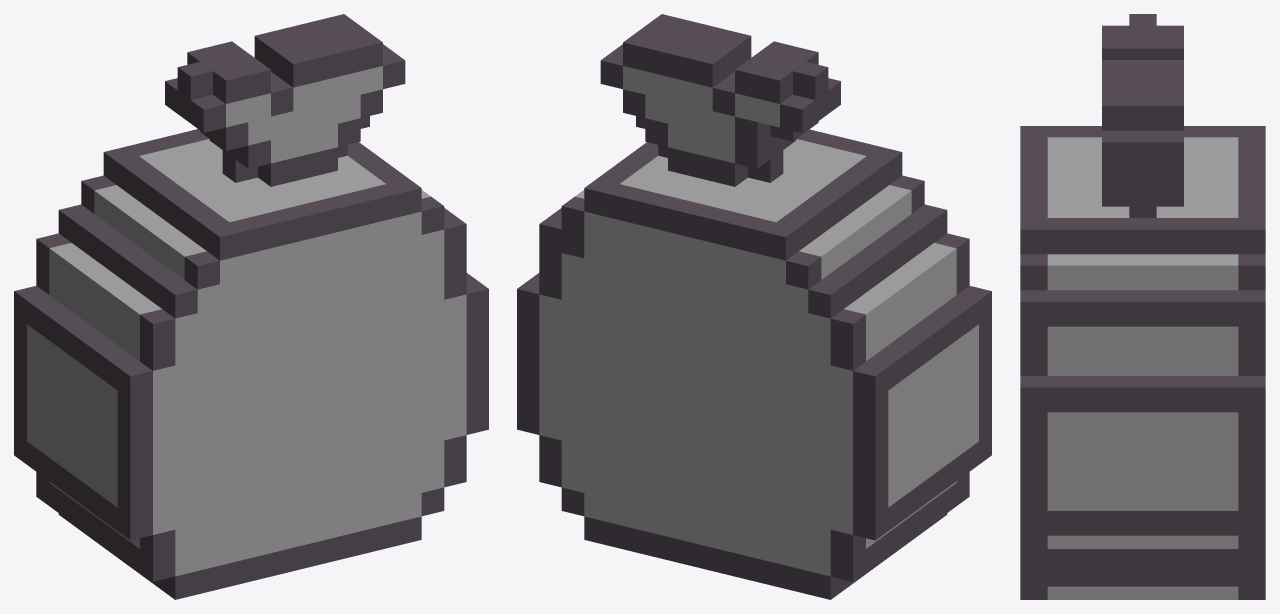
Rendered from trash 1.gltf.
3 renders of one model, left to right at view 1: azimuth 30°, elevation 25°; view 2: azimuth 150°, elevation 25°; view 3: azimuth 270°, elevation 25°, orthographic. The views are drawn at different scales.
Parts seen in each view (by area): view 1: Object_0; view 2: Object_0; view 3: Object_0.
Boxes of the visible parts, box(x1,y1,x2,y2) form: Object_0: box(14, 14, 488, 599); Object_0: box(517, 14, 991, 599); Object_0: box(1020, 14, 1265, 599).
Bounding box in the file's own units: 1.6 × 2 × 0.9.
1 material, 1 textured.
